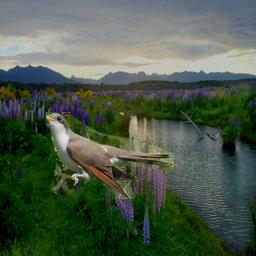Cuckoo: (46, 112, 174, 199)
